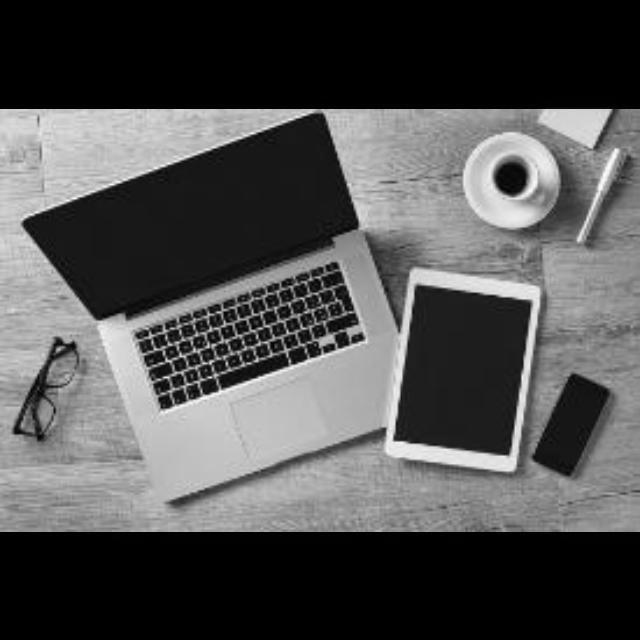fake: (525, 360, 616, 489)
